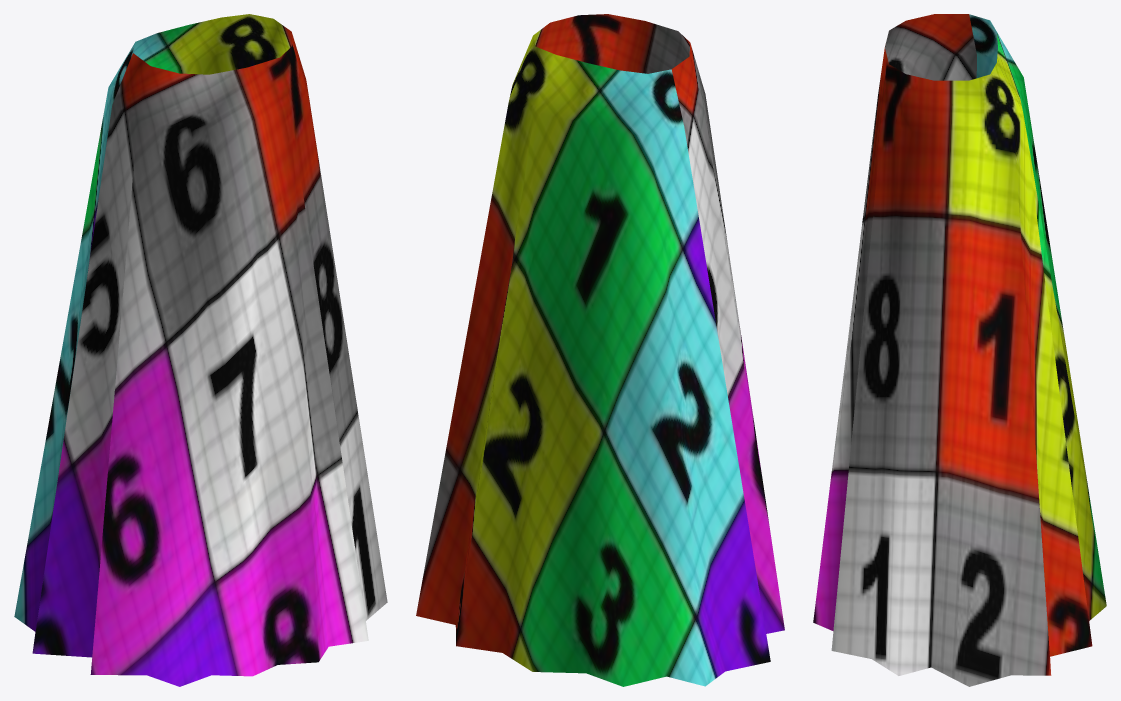
The model's file is 5_Skirt_long.glb.
3 renders of one model, left to right at view 1: azimuth 30°, elevation 25°; view 2: azimuth 150°, elevation 25°; view 3: azimuth 270°, elevation 25°, orthographic. The views are drawn at different scales.
Parts seen in each view (by area): view 1: Skirt_long; view 2: Skirt_long; view 3: Skirt_long.
Boxes of the visible parts, x1,y1,x2,y2 form: Skirt_long: (14,14,387,686); Skirt_long: (416,14,784,686); Skirt_long: (813,14,1106,686).
Size of the model in its own units: 0.5425 by 0.8746 by 0.4165.
1 material, 1 textured.
